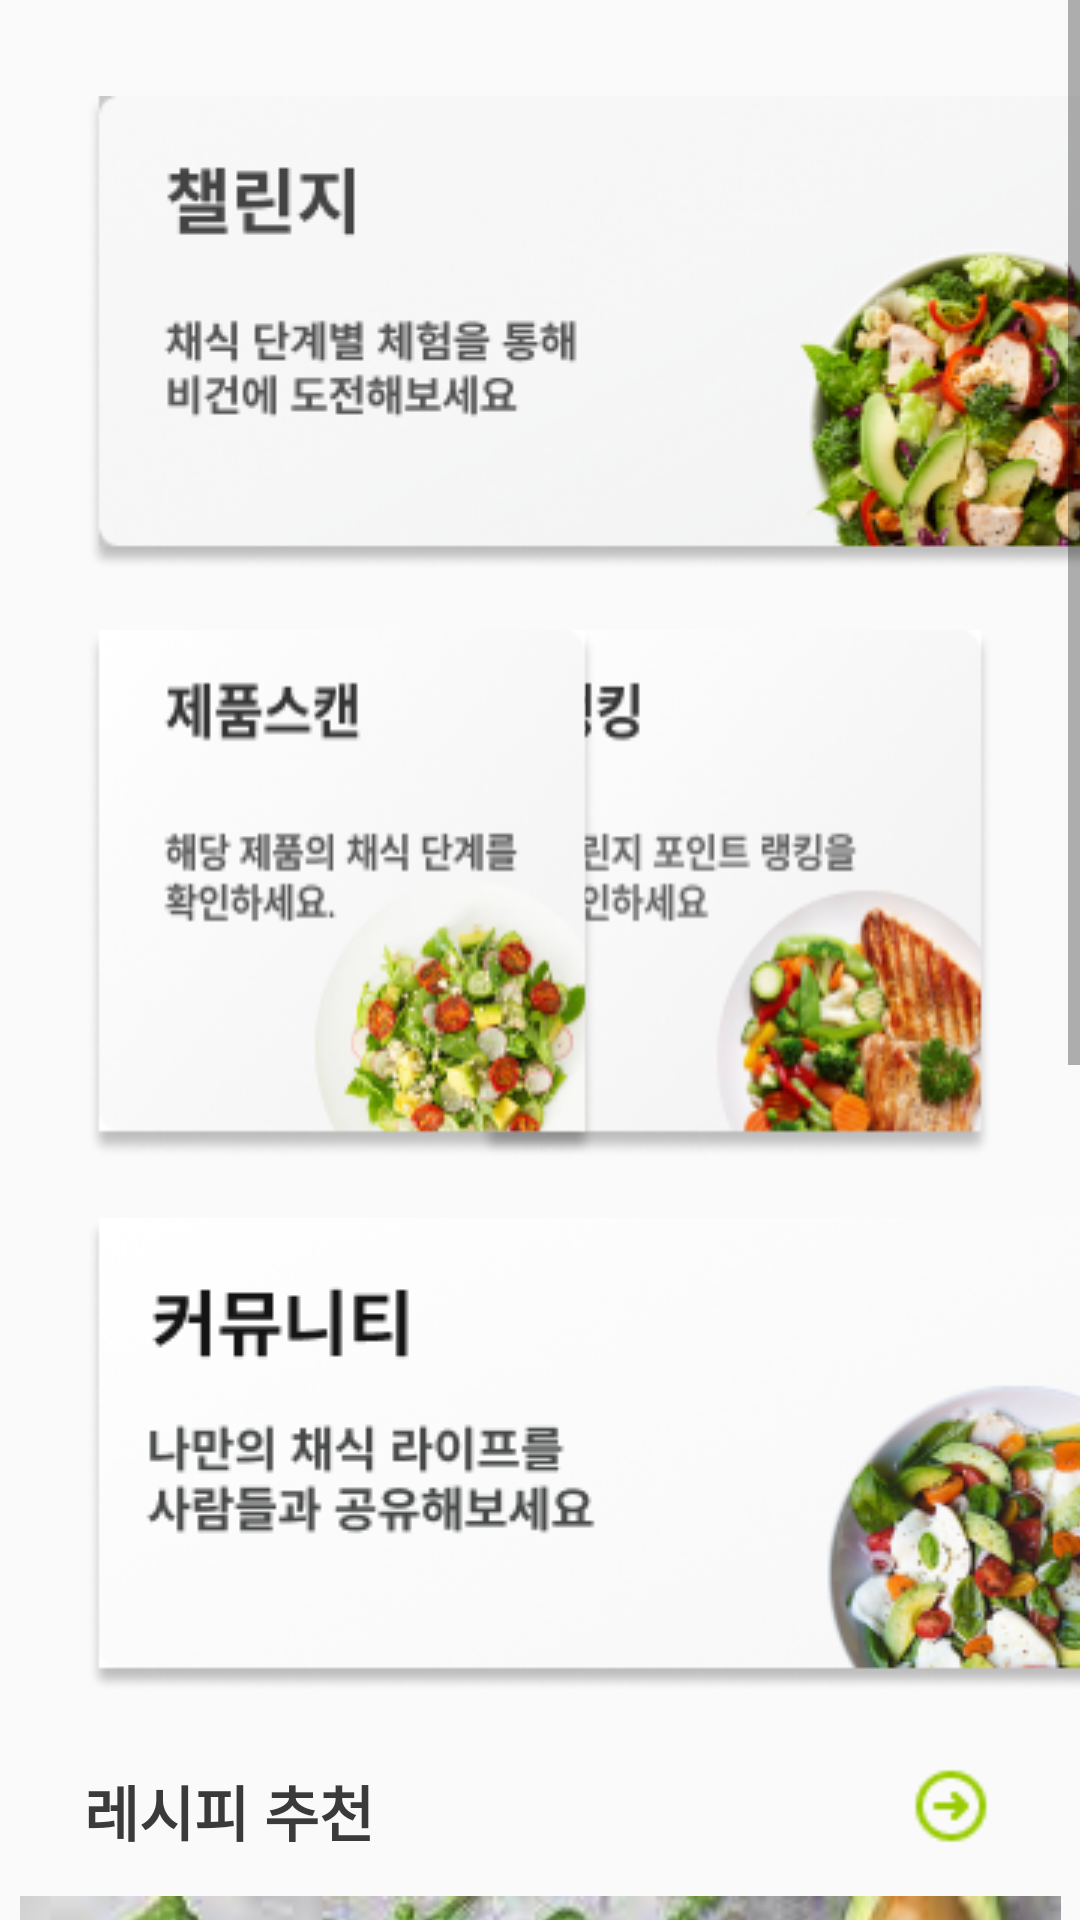

Named icons in this screenshot (1080 x 1920) and their centers, (x=x, y=y):
quiz go: (x=951, y=1806)
